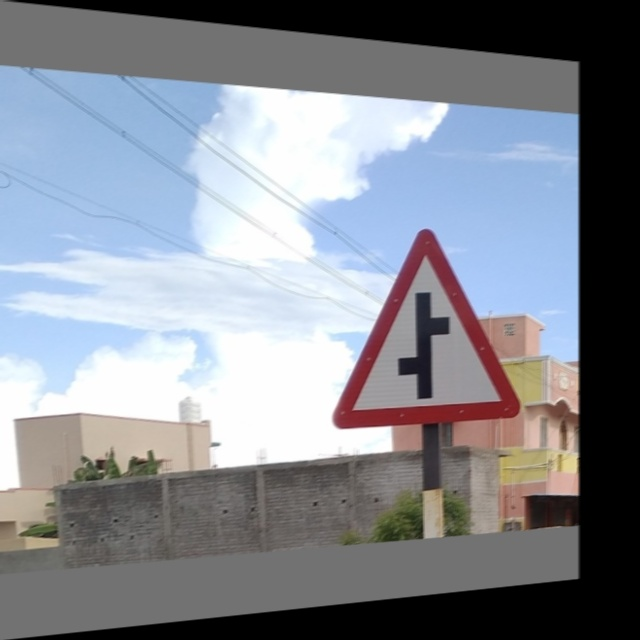Staggered_Intersection: (327, 224, 524, 436)
